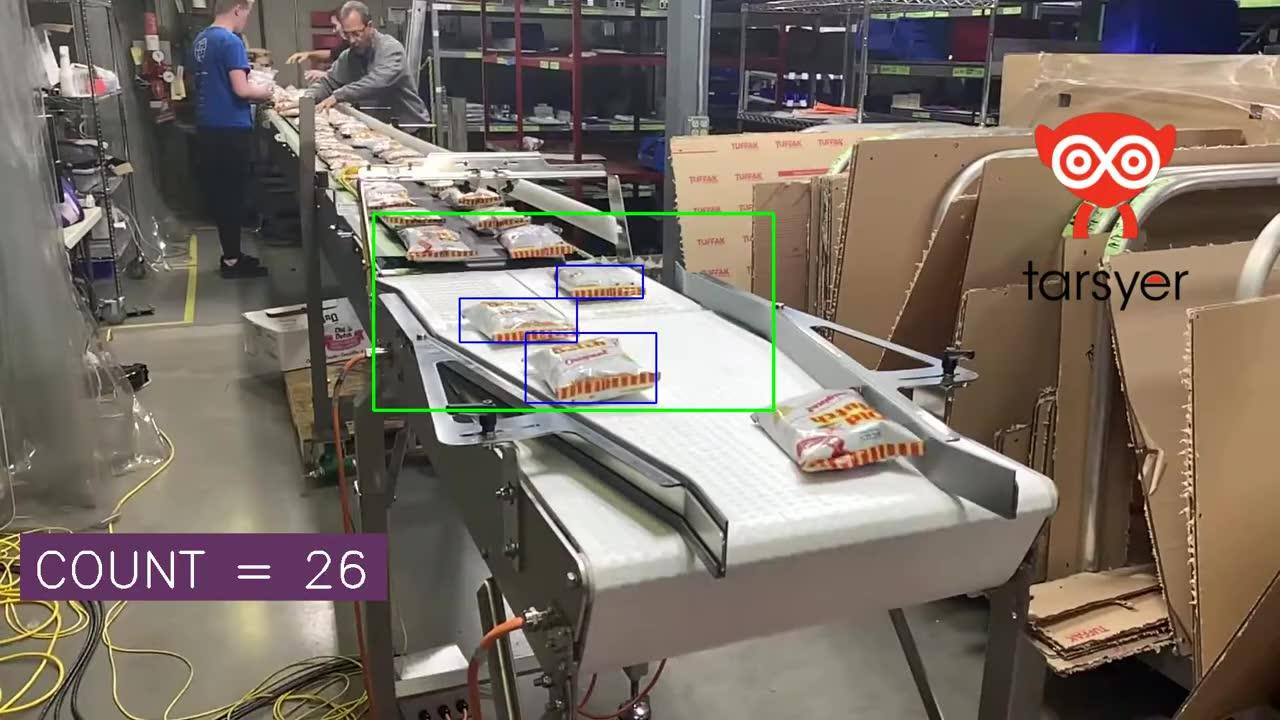Snack: (753, 389, 923, 470), (530, 337, 657, 401), (463, 301, 576, 342), (499, 216, 575, 257), (397, 226, 476, 262), (556, 266, 642, 298), (462, 207, 529, 232), (378, 205, 444, 228), (360, 181, 412, 208), (439, 187, 501, 209), (379, 147, 424, 163), (364, 136, 401, 155), (426, 180, 455, 197)
